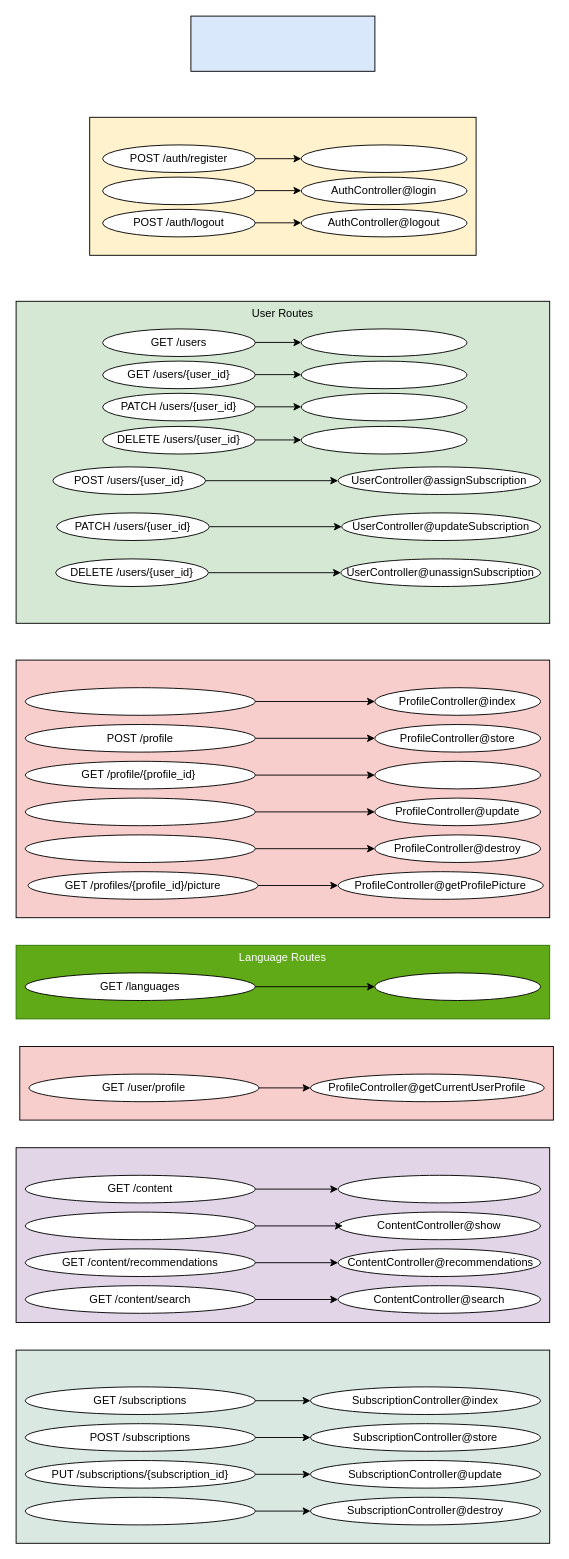
This 569x1559 diagram has some shape labels left out. Here are the shapes that lost their labels. From the top down, the box of each, then its label:
(190, 15, 375, 71): API Gateway
(300, 144, 467, 172): AuthController@register
(102, 176, 255, 205): POST /auth/login
(89, 116, 476, 255): Auth Routes
(300, 328, 467, 356): UserController@index
(300, 360, 467, 389): UserController@show
(300, 392, 467, 421): UserController@update
(300, 426, 467, 454): UserController@destroy
(24, 687, 255, 715): GET /profile
(15, 659, 550, 918): Profile Routes
(374, 760, 540, 789): ProfileController@show
(24, 797, 255, 826): PUT /profiles/{profile_id}
(24, 834, 255, 862): DELETE /profiles/{profile_id}
(374, 972, 540, 1000): languageController@index
(19, 1046, 553, 1120): User profile Routes
(337, 1174, 540, 1203): ContentController@index
(24, 1211, 255, 1240): GET /content/{content_id}
(15, 1147, 550, 1322): Content Routes
(15, 1349, 550, 1543): Subscription Routes
(24, 1496, 255, 1525): DELETE /subscriptions/{subscription_id}
